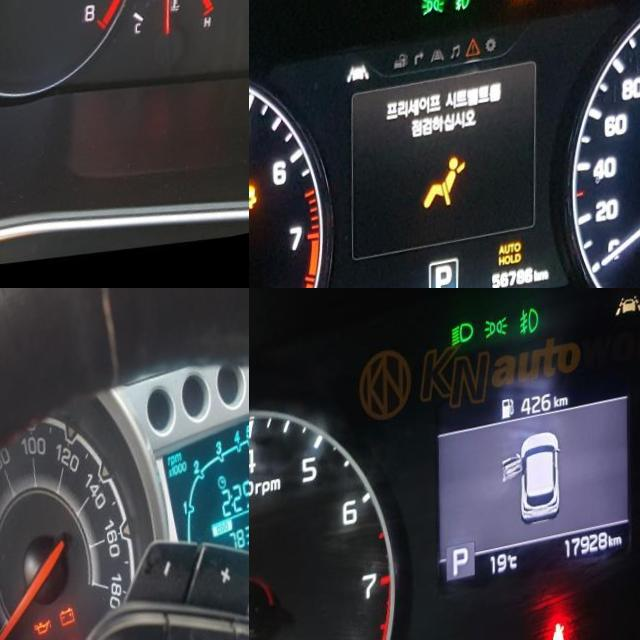Central Warning lamp: (568, 0, 591, 13)
FrontFogLight: (517, 318, 537, 350), (454, 3, 469, 29)
LaneCenteringOff: (613, 310, 640, 334)
Low beam: (449, 331, 472, 357)
SideLamp: (420, 8, 444, 33), (483, 326, 506, 352)
